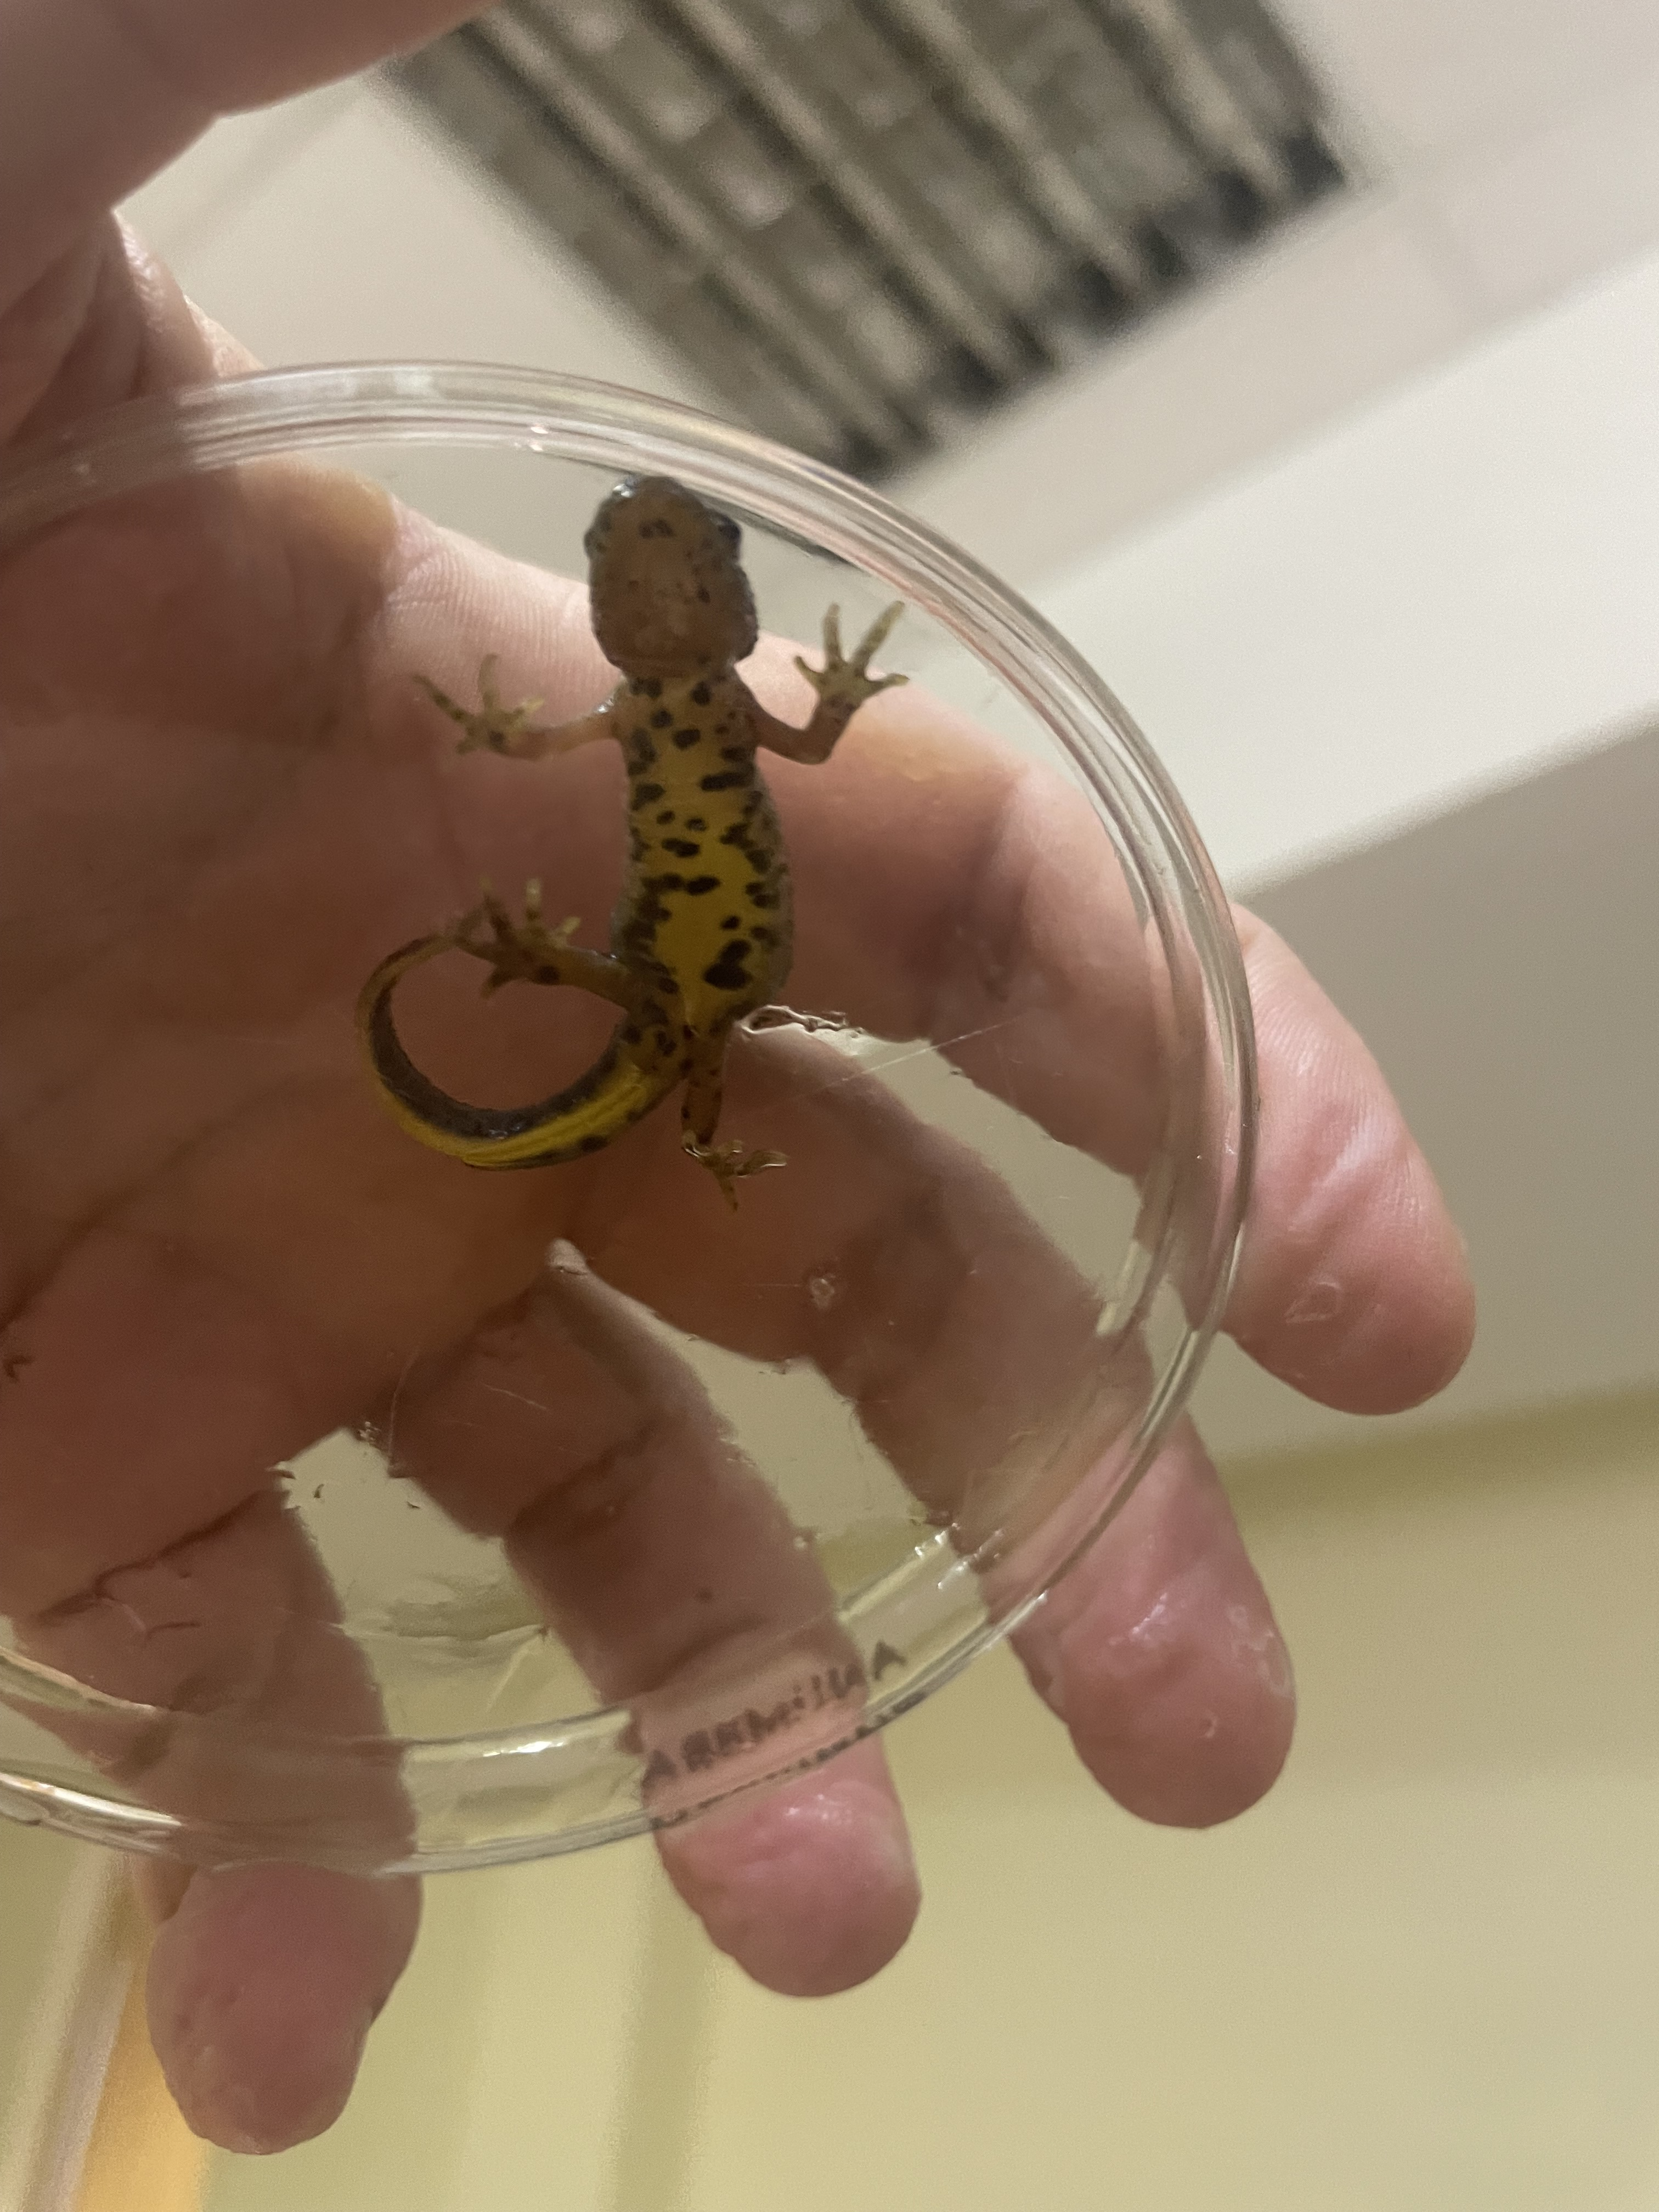Karelin_newt: (612, 742, 795, 1026)
